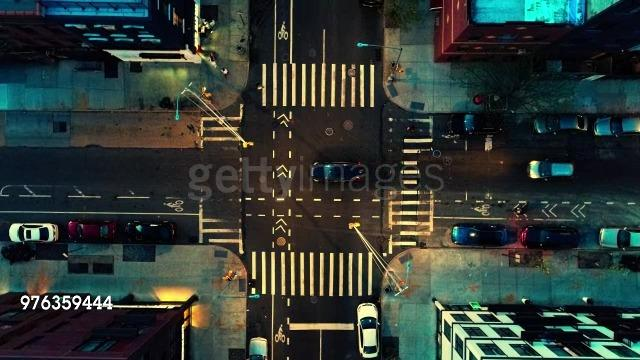car: (354, 298, 384, 358), (518, 222, 586, 248), (310, 159, 368, 189), (445, 110, 505, 138), (533, 112, 591, 140), (452, 221, 512, 248), (522, 158, 582, 182), (592, 221, 640, 251), (592, 112, 640, 140), (124, 221, 178, 245), (66, 219, 120, 243), (7, 224, 61, 244), (248, 334, 272, 360)
